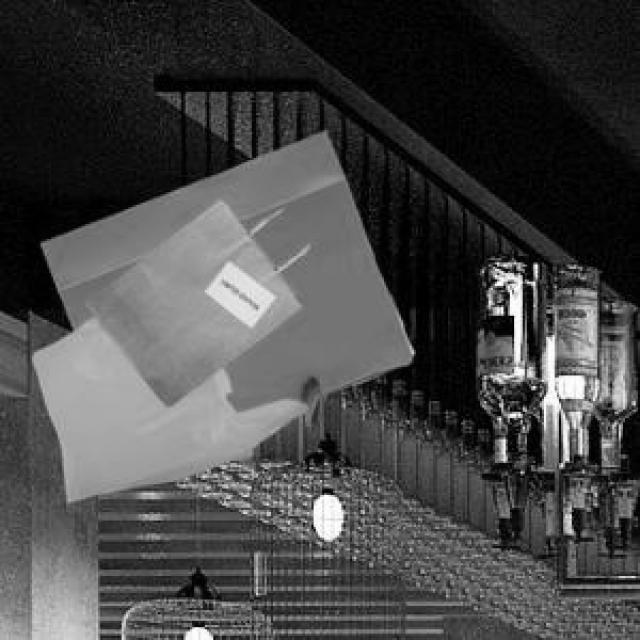paper: (36, 128, 410, 465), (81, 196, 297, 401)
